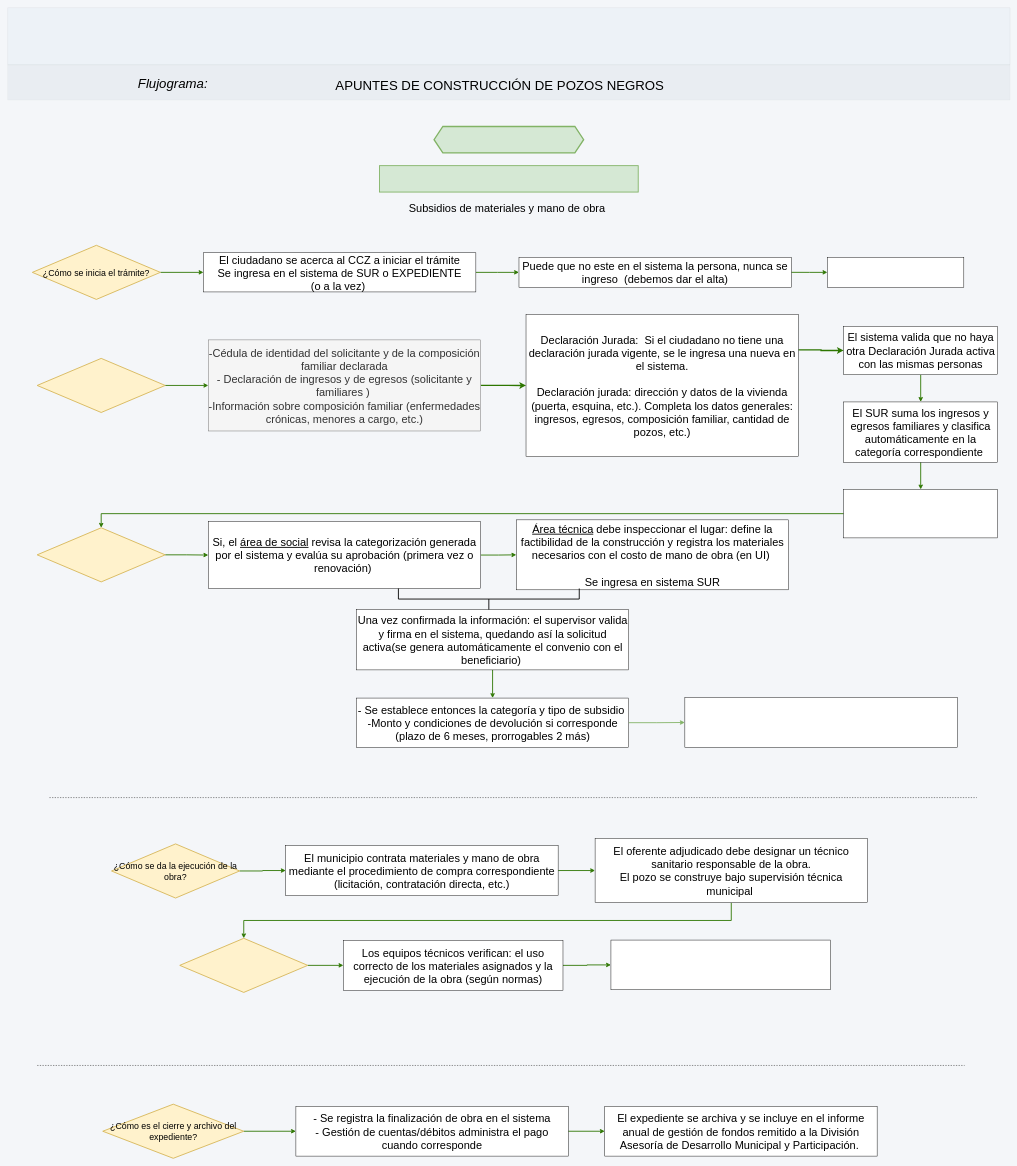
Image size: 1017x1166. Some labels were removed from this diagram. Here are the shapes that lost their labels. From the top down, the box of each, then its label:
(433, 126, 584, 153): APUNTES :
(379, 165, 638, 192): CONSTRUCCIÓN DE POZOS NEGROS
(827, 257, 964, 287): Se abre un expediente
(37, 358, 165, 413): ¿Qué documentación se debe presentar?
(843, 489, 998, 538): Categorización de tipo A (100%), B (50%) o C (sin subsidio)
(37, 527, 165, 582): ¿Tiene un área que validar dicho ingreso?
(684, 697, 957, 747): El sistema emite la factura/débito cuando corresponde (categoría B o C)
(179, 938, 308, 993): ¿Cómo se da el seguimiento de obra?
(610, 940, 830, 990): Se elabora un informe técnico y social que se eleva al Gobierno Municipal
